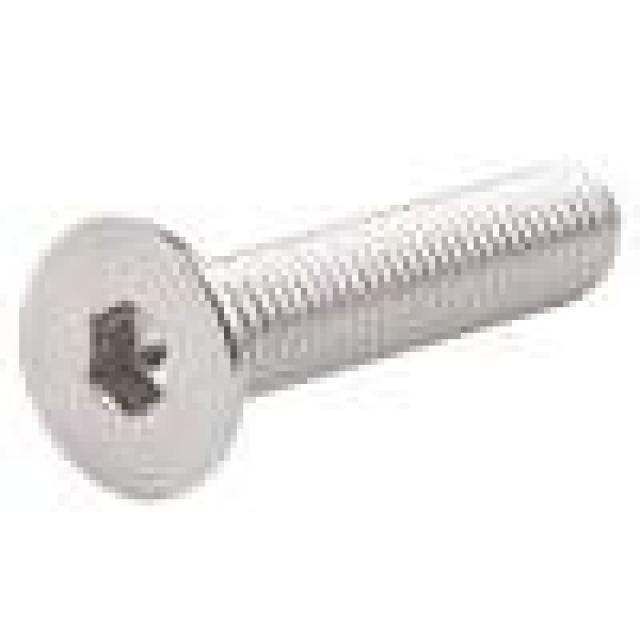Dry Waste: (19, 83, 614, 557)
